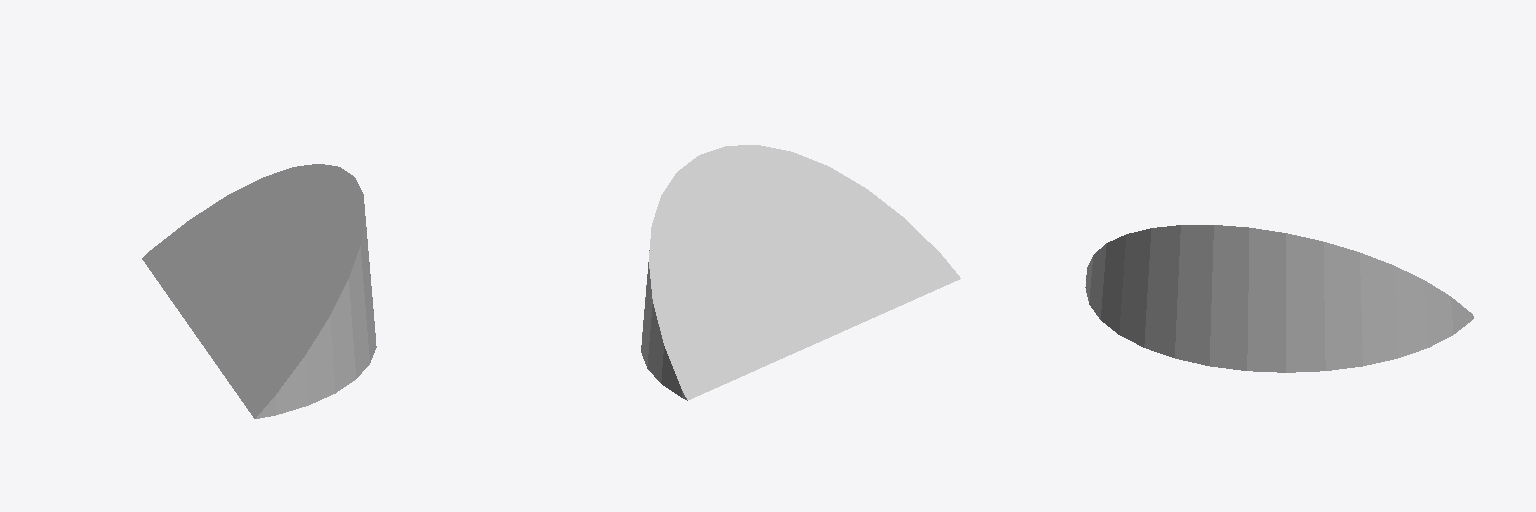
The model's file is torii_broken_044.obj.
3 views of the same model, side by side, from view 1: azimuth 30°, elevation 25°; view 2: azimuth 150°, elevation 25°; view 3: azimuth 270°, elevation 25° (orthographic).
Parts seen in each view (by area): view 1: 鳥居.001_cell.044_鳥居.001_cell.026; view 2: 鳥居.001_cell.044_鳥居.001_cell.026; view 3: 鳥居.001_cell.044_鳥居.001_cell.026.
Part boxes in pixels (left/top/right/bottom): 鳥居.001_cell.044_鳥居.001_cell.026: left=142, top=164, right=376, bottom=418; 鳥居.001_cell.044_鳥居.001_cell.026: left=641, top=145, right=960, bottom=400; 鳥居.001_cell.044_鳥居.001_cell.026: left=1085, top=225, right=1473, bottom=372.
Size of the model in its own units: 0.2477 by 0.1688 by 0.429.